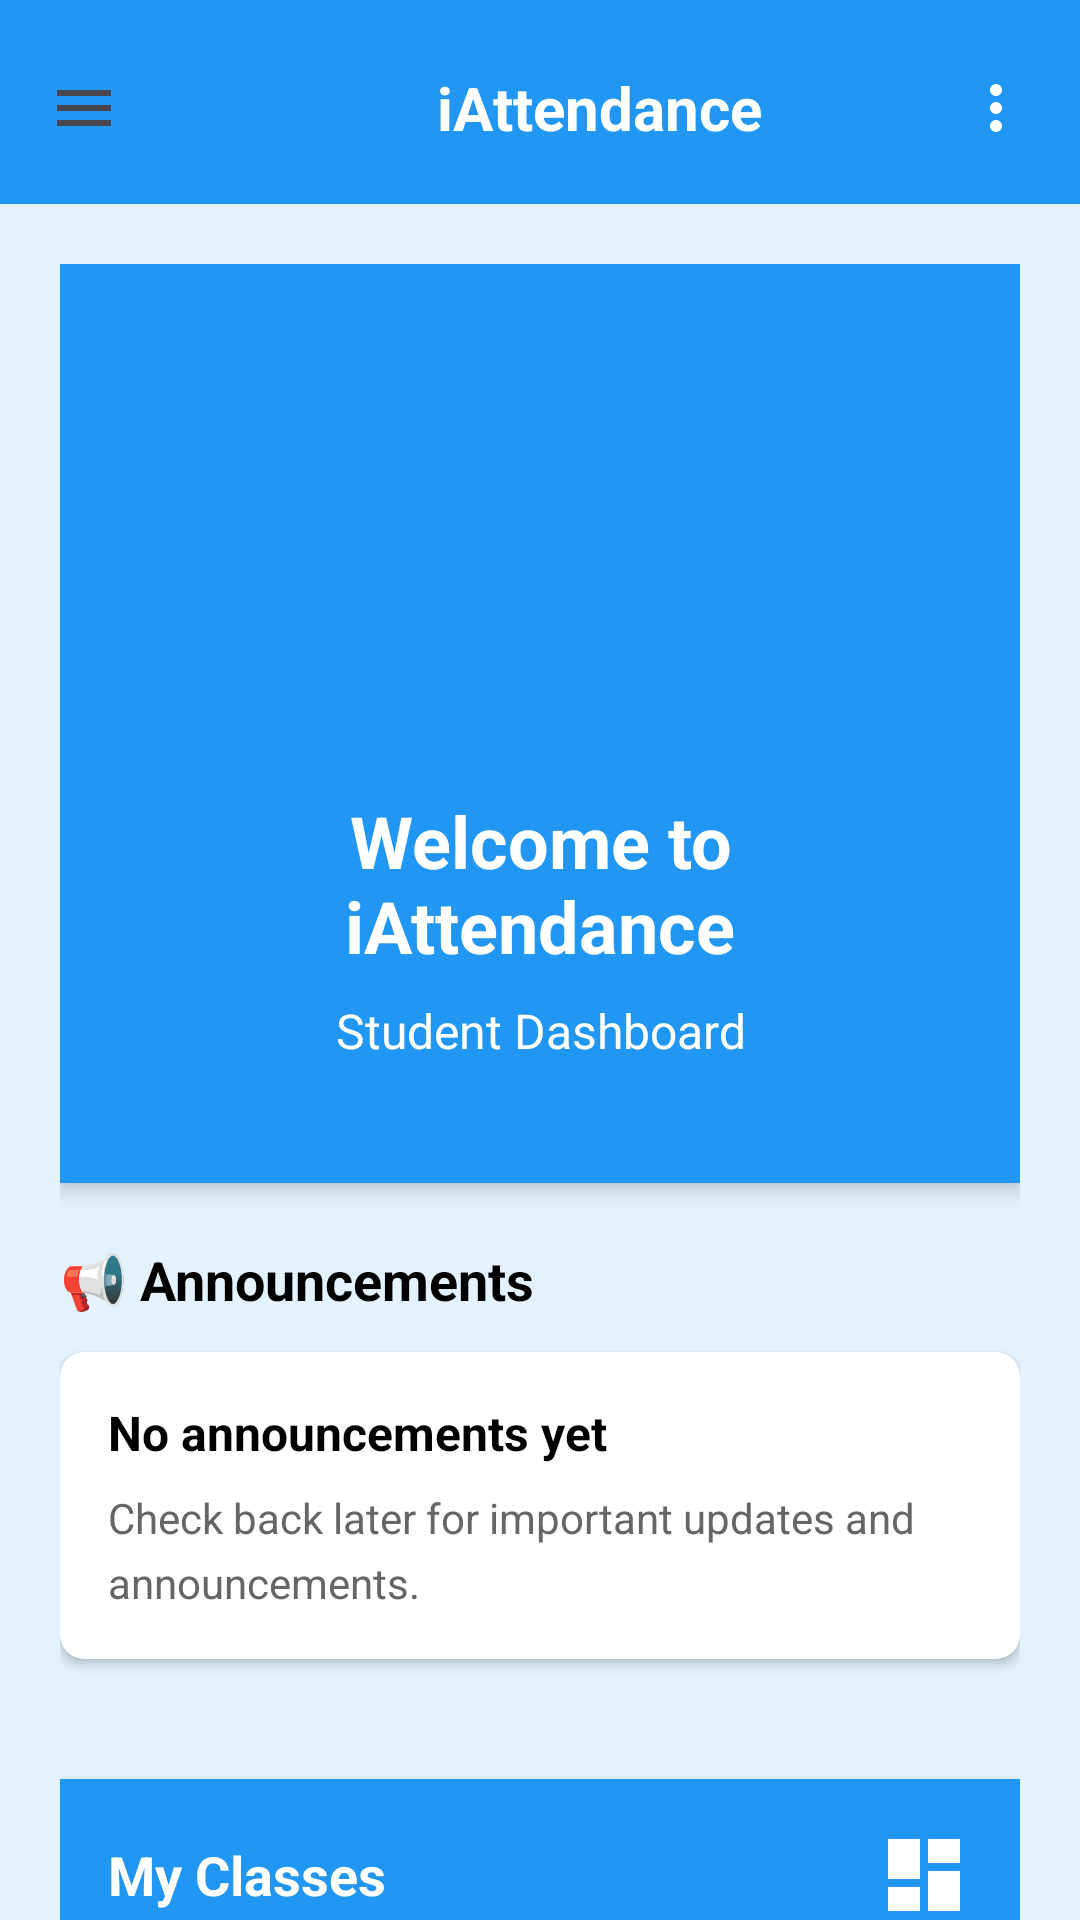

Point at icon controls on the screen. Image size 1080x1920, points as (x,y).
dashboard: (924,1875)
menu: (84,108)
more vert: (996,108)
